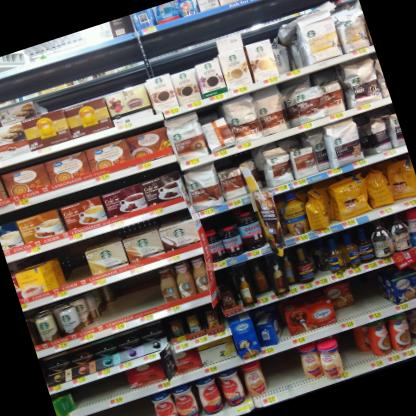empty_space: (346, 269, 392, 317), (261, 349, 308, 392), (122, 271, 164, 314), (57, 245, 94, 285), (90, 370, 134, 403), (334, 328, 365, 369), (100, 282, 132, 320), (115, 395, 162, 416), (69, 381, 95, 408), (76, 406, 125, 416)
